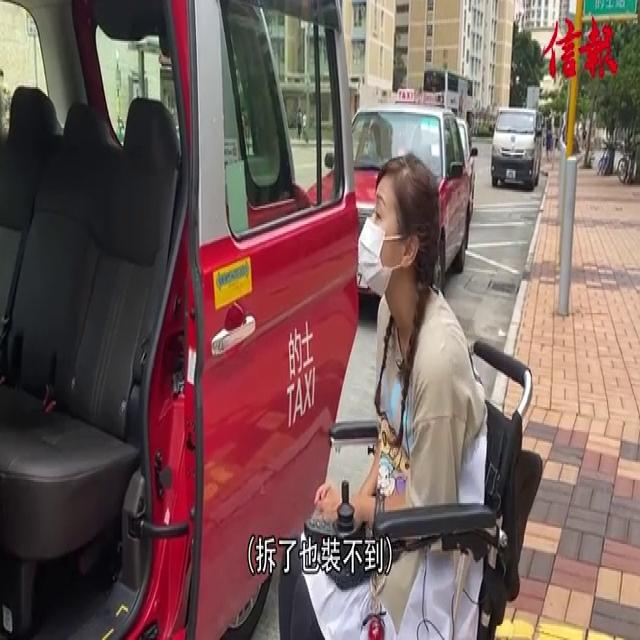wheelchairs: (312, 298, 553, 632)
